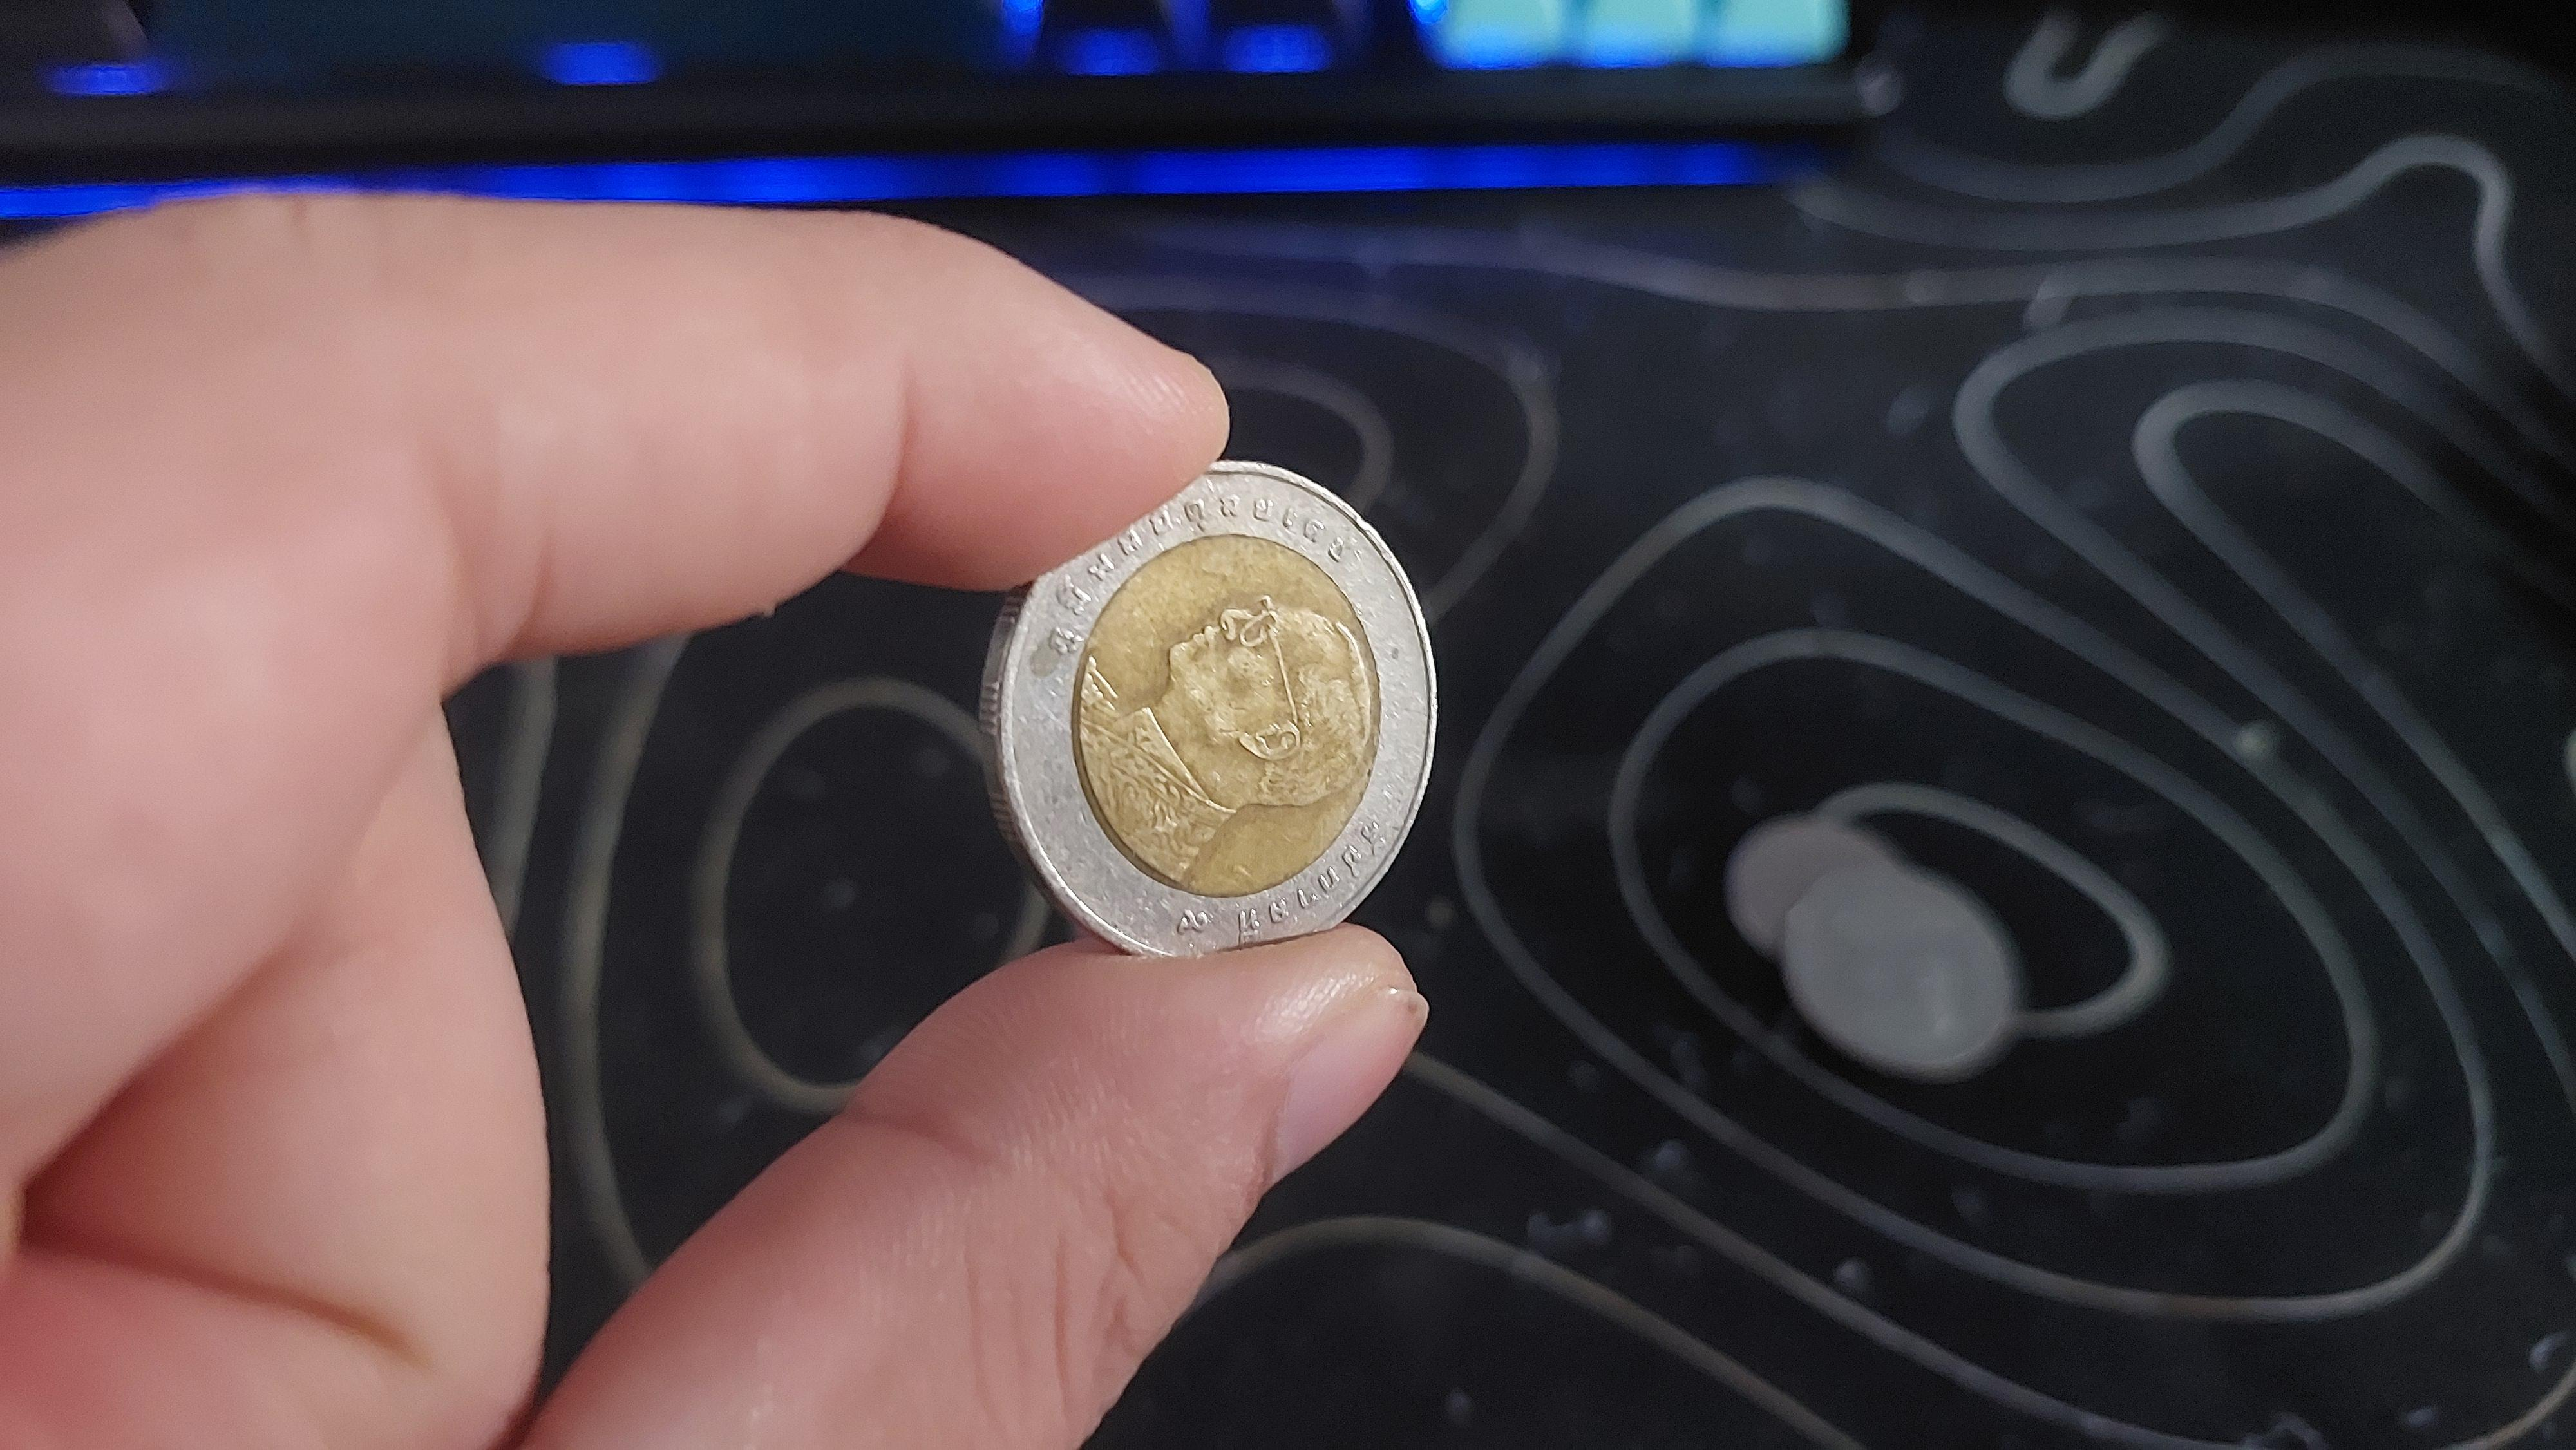10baht: (975, 373, 1477, 978)
